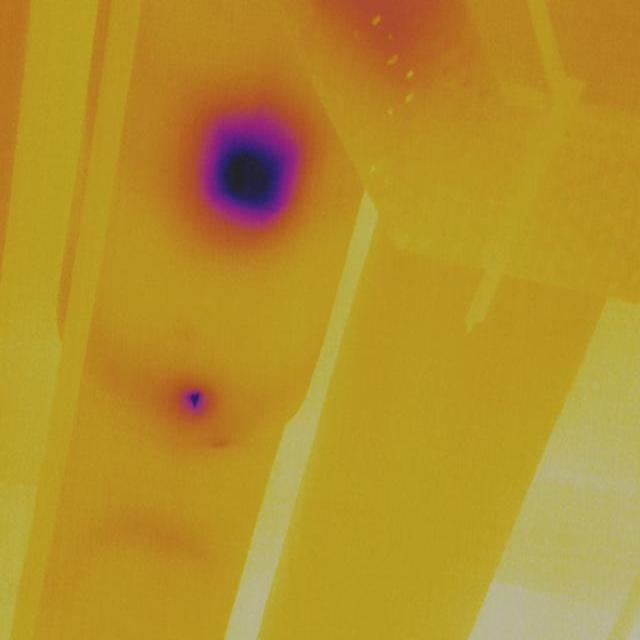leakage: (198, 103, 301, 234), (327, 0, 432, 92), (180, 382, 209, 413)
